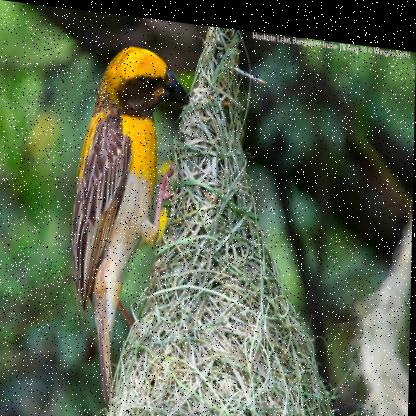Burung: (70, 36, 190, 413)
